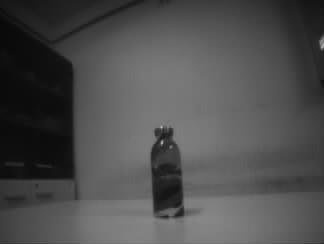Bottle: (150, 126, 186, 219)
